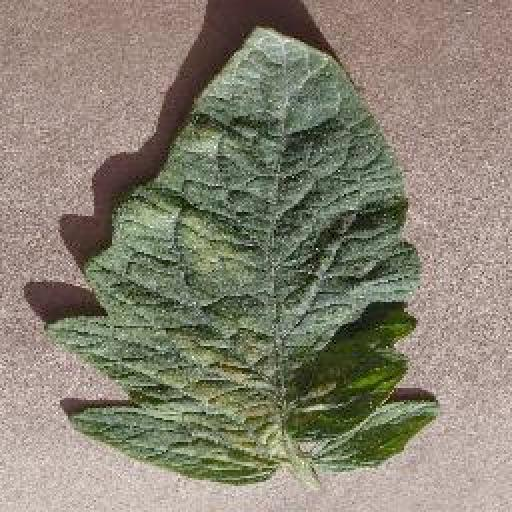disease_tomato: (42, 22, 442, 484)
